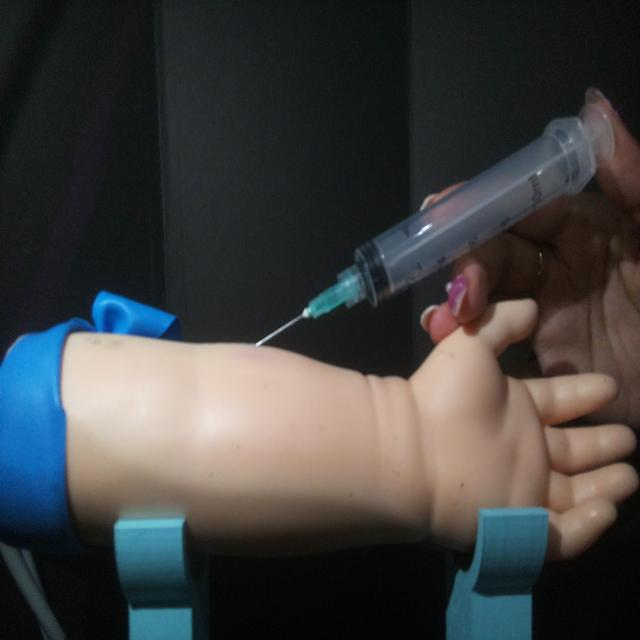29deg: (250, 89, 618, 352)
